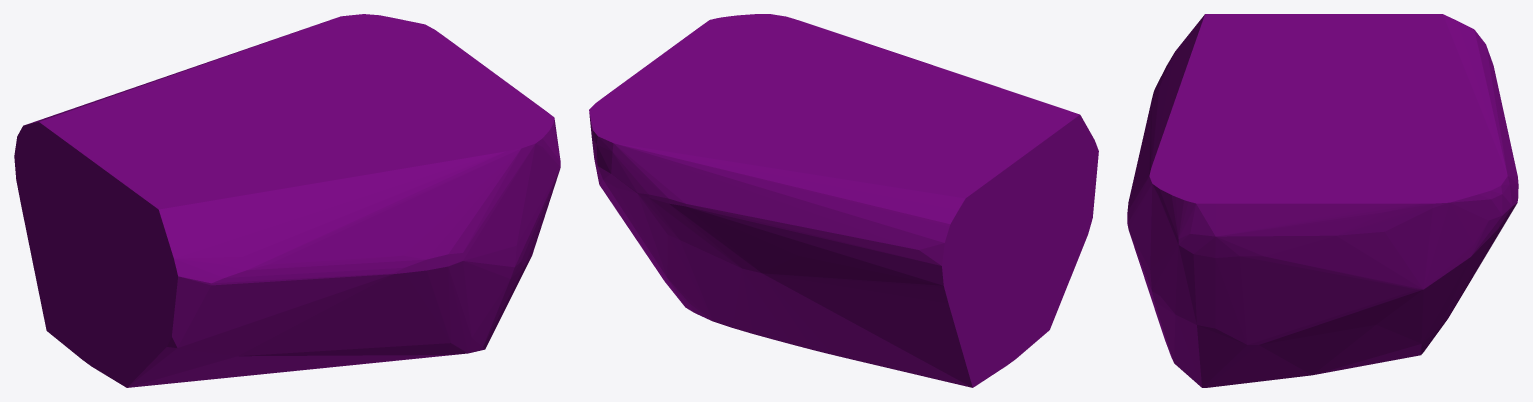
3 views of the same model, side by side, from view 1: azimuth 30°, elevation 25°; view 2: azimuth 150°, elevation 25°; view 3: azimuth 270°, elevation 25° (orthographic). The views are drawn at different scales.
Size of the model in its own units: 0.0565 by 0.0297 by 0.0486.
